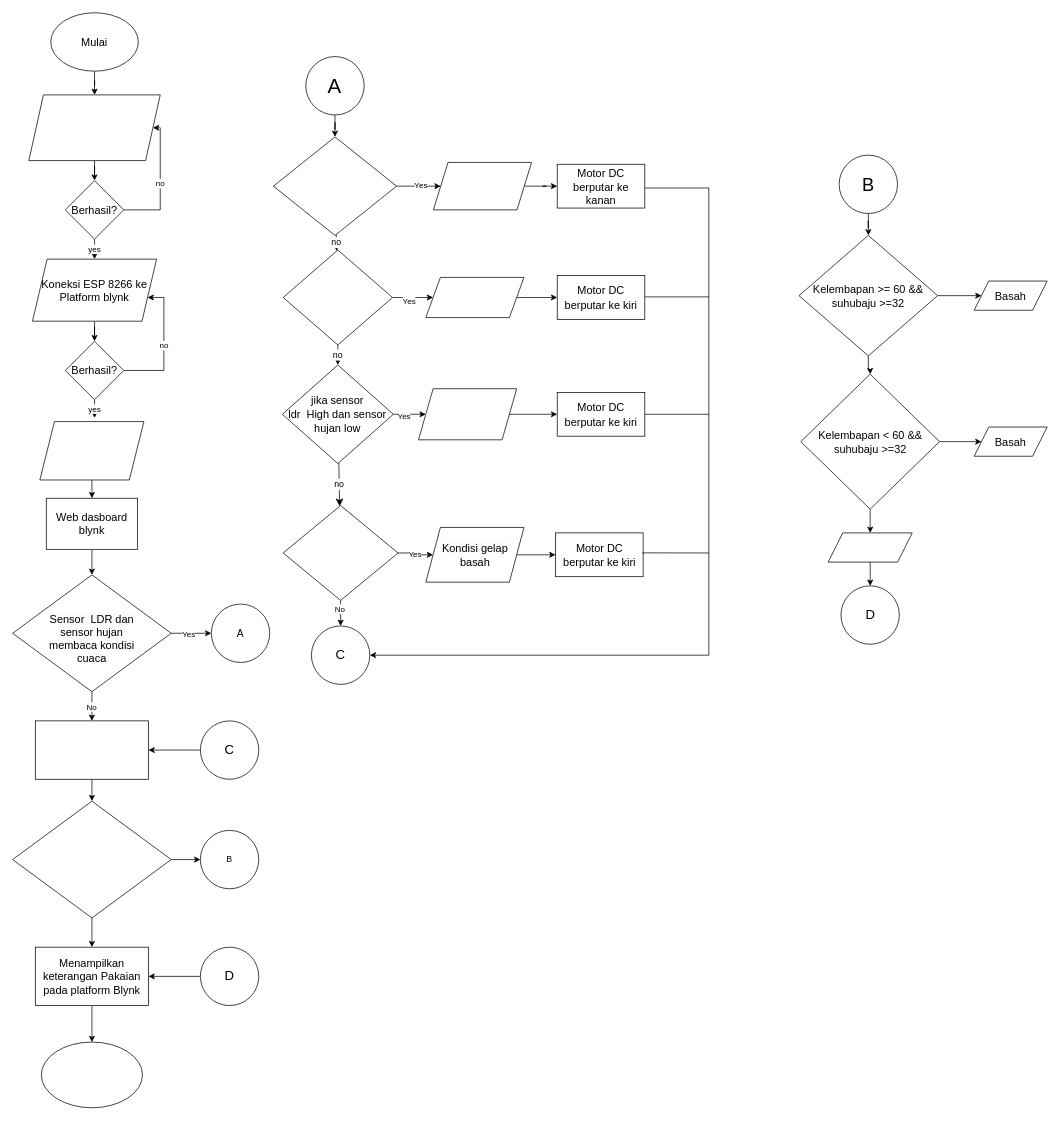
The diagram is 1061 pixels wide and 1121 high, and some of its shapes have lost their labels. The centre of each missing label's shape, as x and y in pixels:
jika sensor ldr High dan sensor hujan high: (x=335, y=185)
jika sensor ldr Low dan sensor hujan high: (x=337, y=297)
jika sensor ldr Low dan sensor hujan low: (x=340, y=552)
Kering: (x=869, y=547)
Kondisi gelap kering: (x=474, y=297)
Kondisi terang basah: (x=467, y=414)
Kondisi terang kering: (x=482, y=186)
Koneksi ESP 8266 ke internet: (x=94, y=127)
Menampilkan keterangan jemuran pada platform Blynk: (x=91, y=749)
Selesai: (x=91, y=1074)
Sensor DHT11 dan MLX90614 membaca suhu dan kelembapan: (x=91, y=859)
Situs online pada device web blynk: (x=91, y=450)
